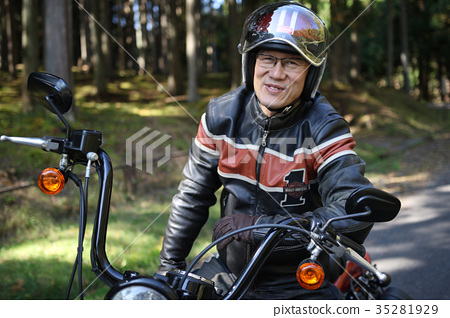helmet: (234, 2, 341, 75)
